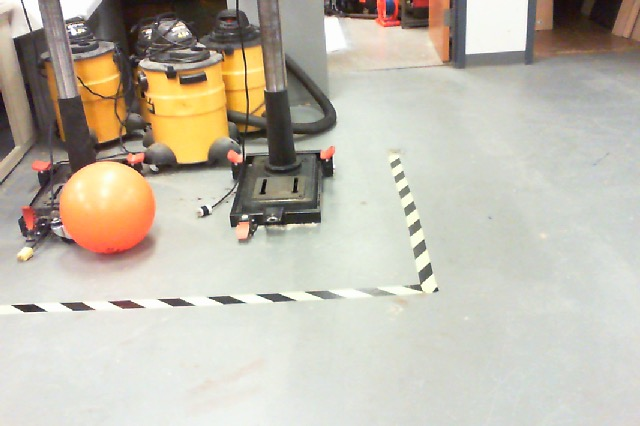Ball: (59, 160, 155, 253)
